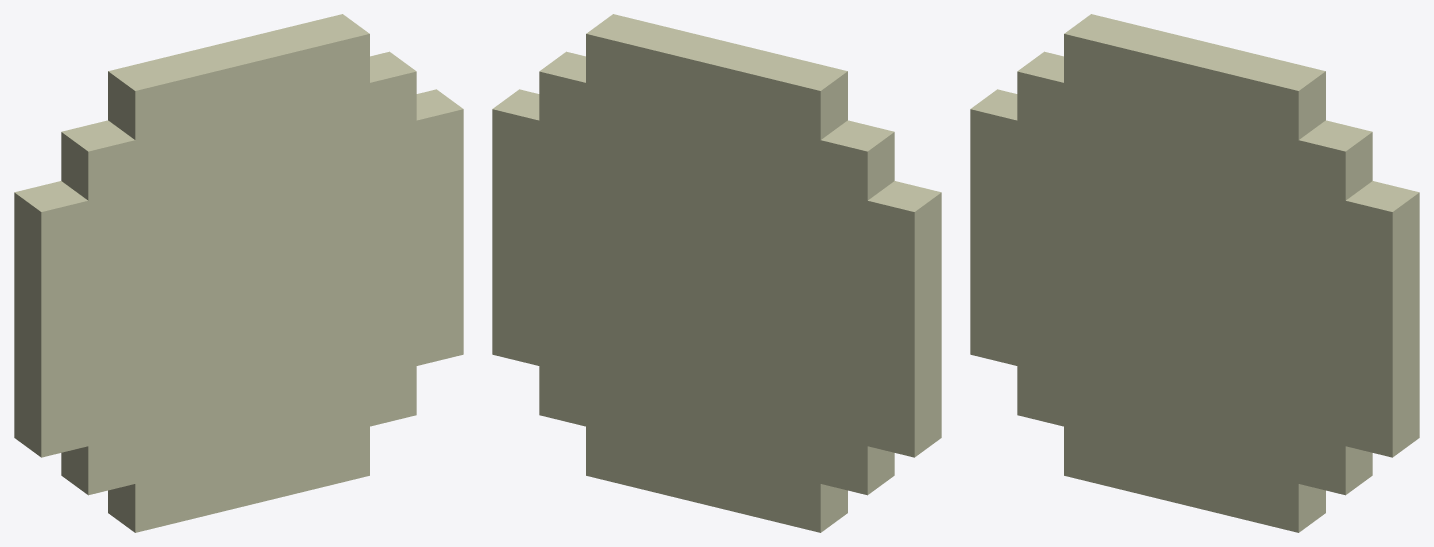
File: Shield-Large-Tan.vox.obj
The picture shows the model from 3 angles, left to right: view 1: azimuth 30°, elevation 25°; view 2: azimuth 150°, elevation 25°; view 3: azimuth 330°, elevation 25°; orthographic projection.
Size of the model in its own units: 0.9 by 0.9 by 0.1.
Materials: 1 (1 with a texture image).
